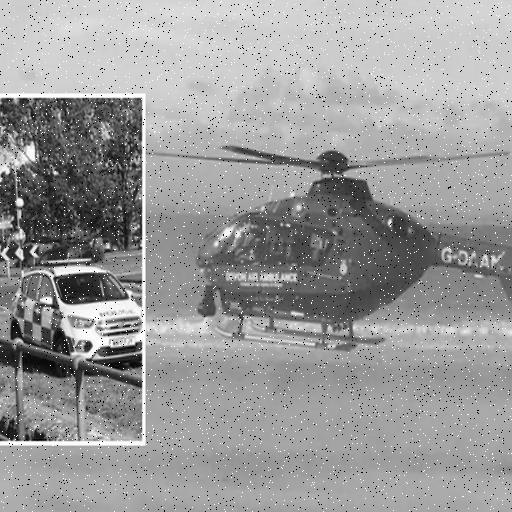helicopter: (112, 99, 477, 364)
